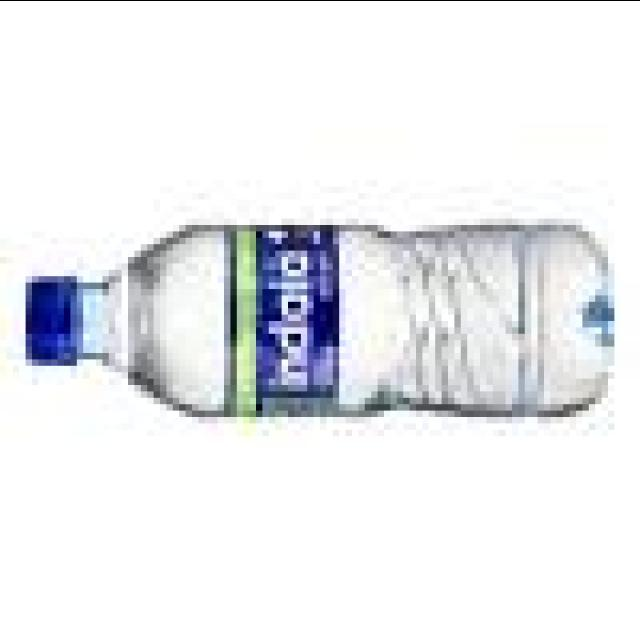bottle: (25, 225, 613, 415)
